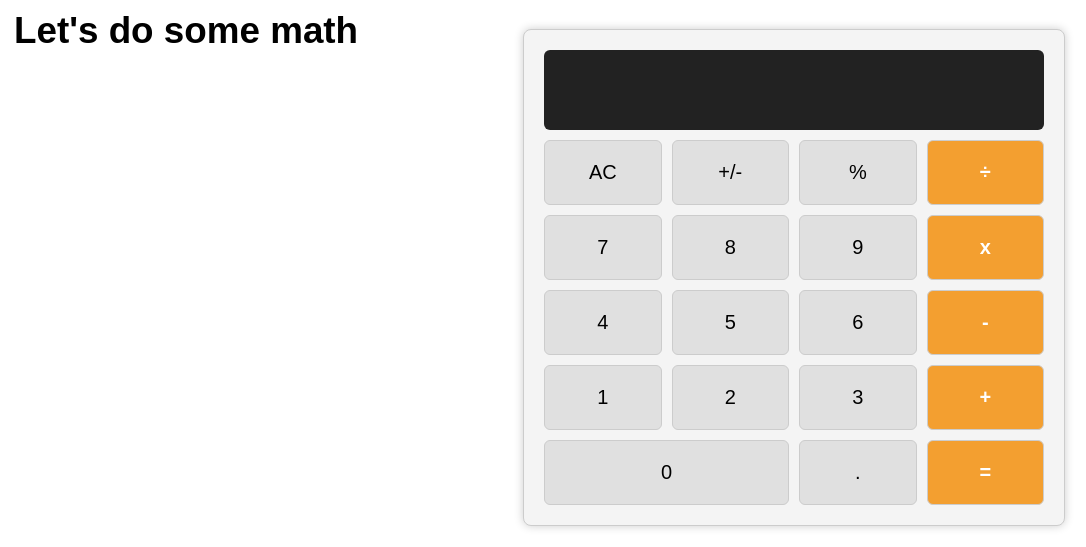
Test: Calculator component › handles AC button click and resets display
Click the button "7".
click(603, 248)  # box left=544, top=215, right=662, bottom=280
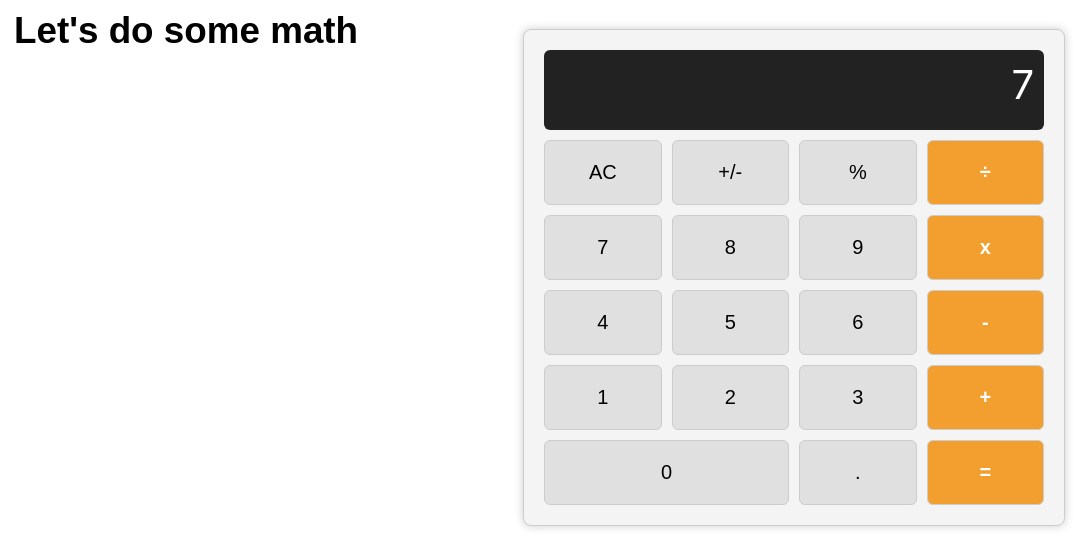
Click the button "AC".
click(603, 172)  # box left=544, top=140, right=662, bottom=205
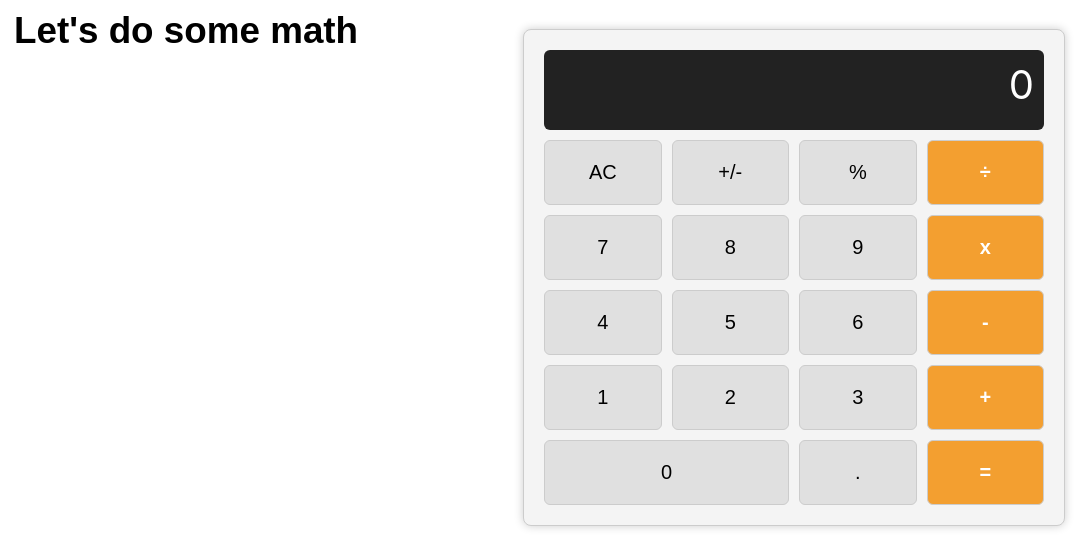
Expected: the text with test id "display" reads "0", left=1009, top=60, right=1034, bottom=109
